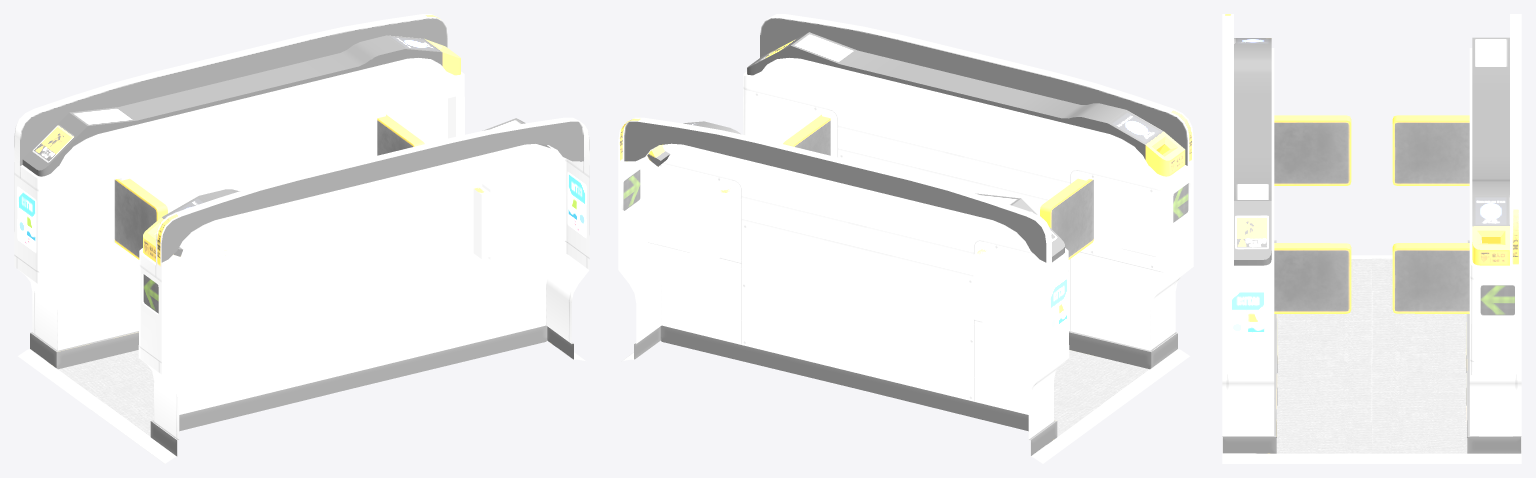
File: SM_TicketGate_01_Closed.fbx
The picture shows the model from 3 angles, left to right: view 1: azimuth 30°, elevation 25°; view 2: azimuth 150°, elevation 25°; view 3: azimuth 270°, elevation 25°; orthographic projection.
Visible parts, largest first — view 1: SM_TicketGate_01_Closed_LOD0; view 2: SM_TicketGate_01_Closed_LOD0; view 3: SM_TicketGate_01_Closed_LOD0.
Part boxes in pixels (bbox=[...]): SM_TicketGate_01_Closed_LOD0: bbox=[14, 14, 589, 463]; SM_TicketGate_01_Closed_LOD0: bbox=[618, 14, 1193, 463]; SM_TicketGate_01_Closed_LOD0: bbox=[1222, 14, 1521, 463].
Bounding box in the file's own units: 218 × 130 × 122.
